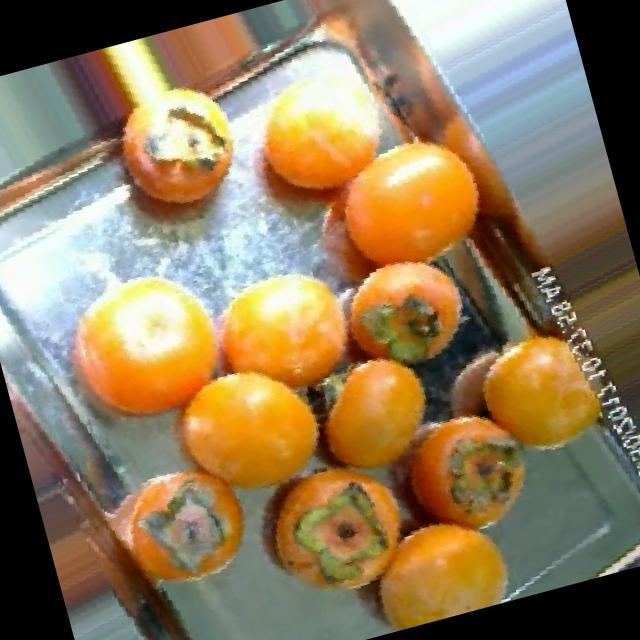Fruit: (322, 482, 539, 640), (276, 327, 468, 504)
